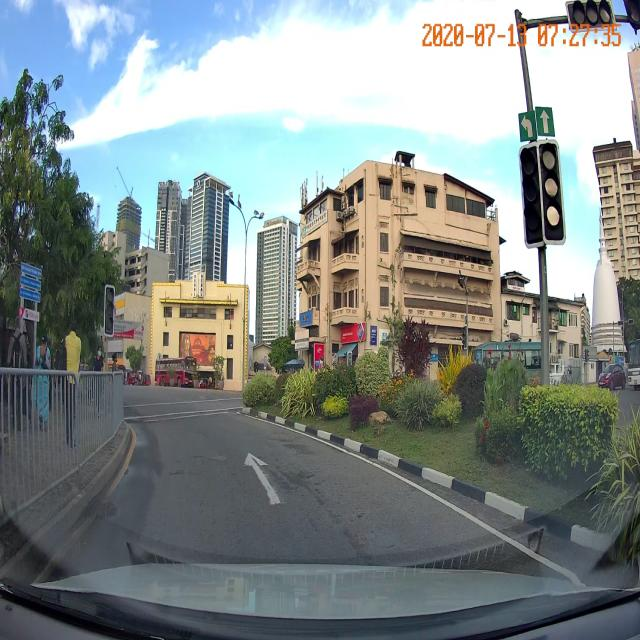Strelka vpered: (242, 450, 283, 506)
